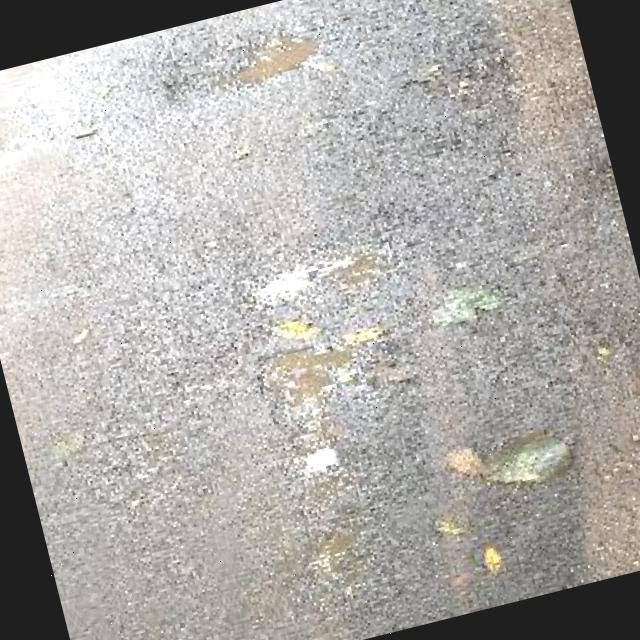waterlogging: (237, 312, 412, 426), (282, 504, 406, 616), (219, 17, 336, 114)
